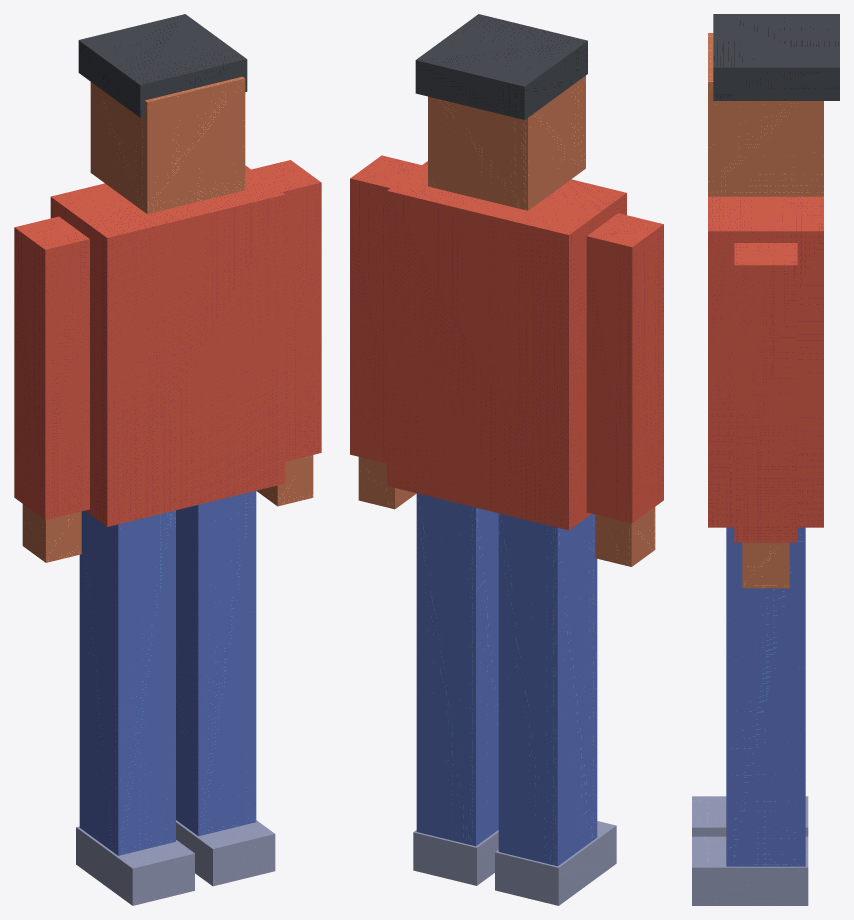
Rendered from person-a.glb.
3 views of the same model, side by side, from view 1: azimuth 30°, elevation 25°; view 2: azimuth 150°, elevation 25°; view 3: azimuth 270°, elevation 25° (orthographic). The views are drawn at different scales.
Parts seen in each view (by area): view 1: person-a; view 2: person-a; view 3: person-a.
Part boxes in pixels (x1,y1,x2,y2): person-a: (14,14,321,905); person-a: (350,14,663,905); person-a: (692,14,839,905).
Bounding box in the file's own units: 0.62 × 1.74 × 0.28.
Materials: 1 (1 with a texture image).
